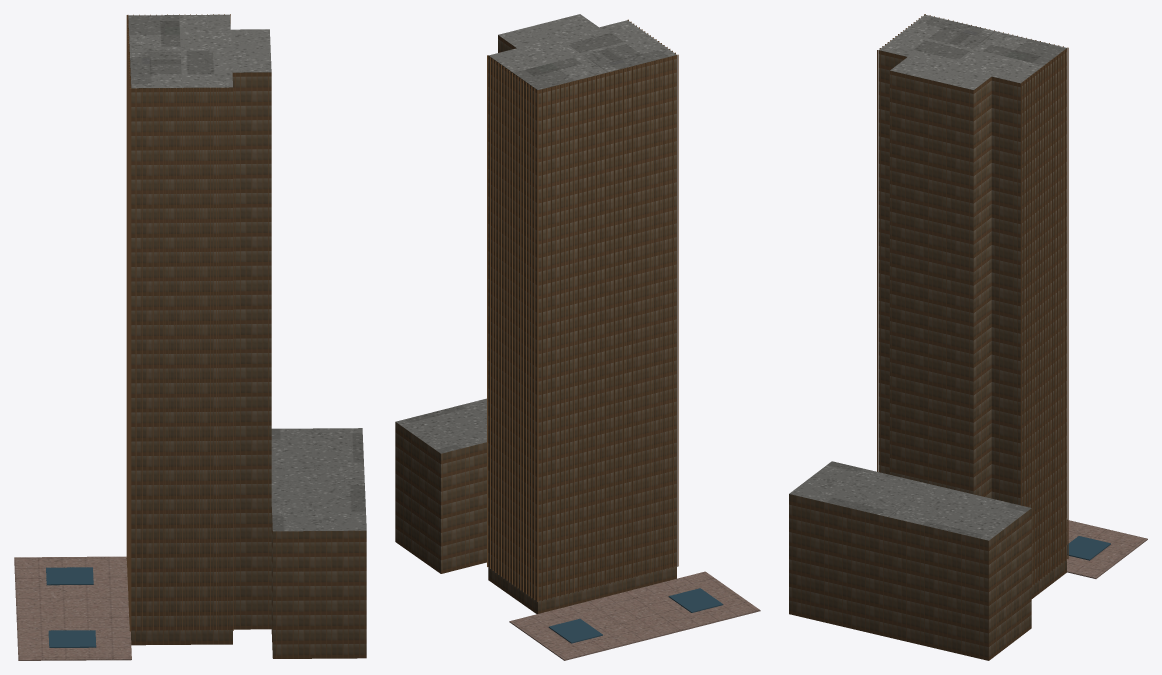
File: seagram.glb
The picture shows the model from 3 angles, left to right: view 1: azimuth 30°, elevation 25°; view 2: azimuth 150°, elevation 25°; view 3: azimuth 270°, elevation 25°; orthographic projection. The views are drawn at different scales.
Visible parts, largest first — view 1: seagram; view 2: seagram; view 3: seagram.
Boxes of the visible parts, bbox=[...] form: seagram: bbox=[14, 14, 366, 660]; seagram: bbox=[395, 14, 760, 660]; seagram: bbox=[789, 14, 1147, 660].
Bounding box in the file's own units: 108 × 157 × 97.37.
Materials: 10 (7 with a texture image).
